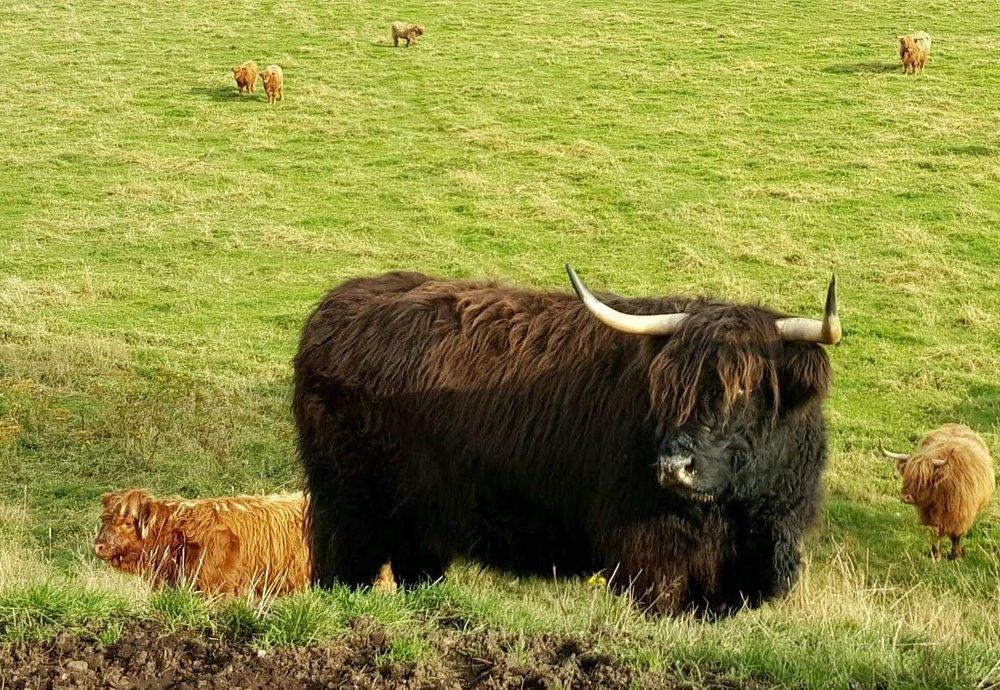cow: (297, 273, 826, 620), (92, 493, 310, 593), (899, 425, 994, 561), (899, 34, 930, 75), (261, 66, 283, 103), (392, 21, 424, 46), (234, 62, 257, 92)
